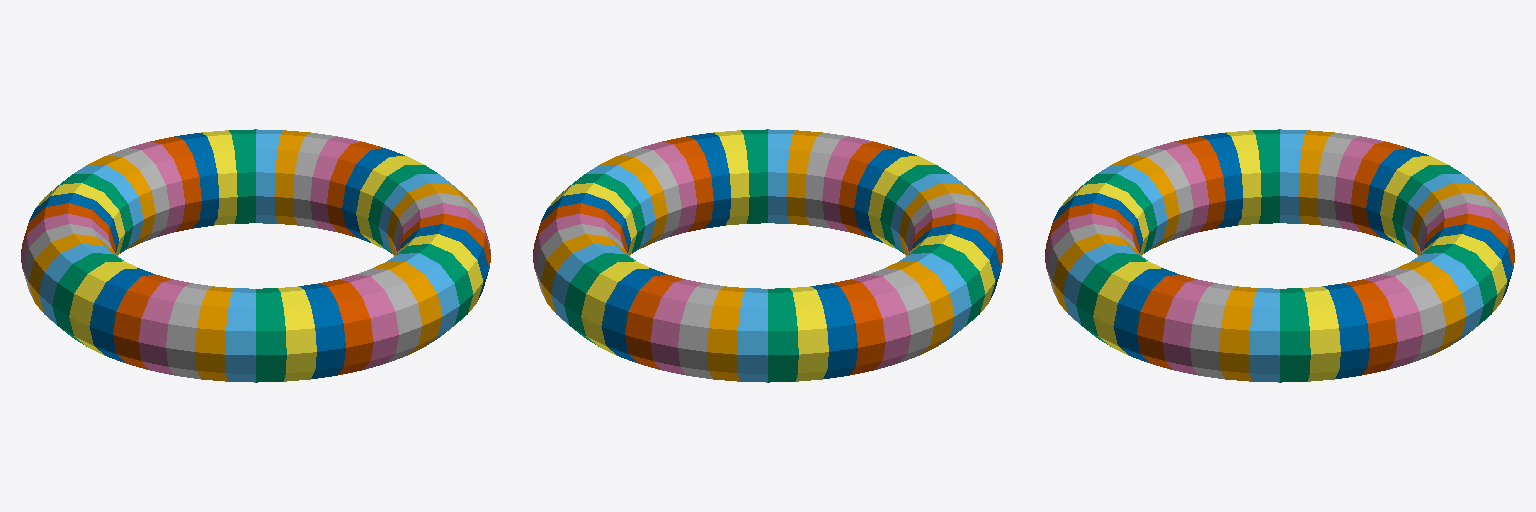
--- What the picture shows (computed from the rendered views, not written in the file) ---
Views: 3 orthographic renders of the robot side by side, from view 1: azimuth 30°, elevation 25°; view 2: azimuth 150°, elevation 25°; view 3: azimuth 270°, elevation 25°.
Robot: ring — 48 links, 47 joints (47 fixed); root link base_link; default pose: every joint at zero.
Visible links, largest first — view 1: 9, 10, 8, 11, 7, 12, 6, 13, 5, 14, 4, 15 (+28 smaller); view 2: 41, 42, 40, 43, 39, 44, 38, 45, 37, 46, 36, 47 (+28 smaller); view 3: 25, 26, 24, 27, 23, 28, 22, 29, 21, 30, 20, 31 (+28 smaller).
Boxes of the visible links, x1,y1,x2,y2 form: 9: [225, 288, 255, 382]; 10: [256, 288, 286, 382]; 8: [195, 286, 233, 381]; 11: [278, 286, 316, 381]; 7: [166, 283, 212, 378]; 12: [299, 283, 345, 378]; 6: [138, 279, 192, 375]; 13: [319, 279, 373, 375]; 5: [113, 274, 172, 369]; 14: [339, 274, 398, 369]; 4: [89, 268, 153, 362]; 15: [358, 268, 422, 362]; 41: [737, 288, 767, 382]; 42: [768, 288, 798, 382]; 40: [707, 286, 745, 381]; 43: [790, 286, 828, 381]; 39: [678, 283, 724, 378]; 44: [811, 283, 857, 378]; 38: [650, 279, 704, 375]; 45: [831, 279, 885, 375]; 37: [625, 274, 684, 369]; 46: [851, 274, 910, 369]; 36: [601, 268, 665, 362]; 47: [870, 268, 934, 362]; 25: [1249, 288, 1279, 382]; 26: [1280, 288, 1310, 382]; 24: [1219, 286, 1257, 381]; 27: [1302, 286, 1340, 381]; 23: [1190, 283, 1236, 378]; 28: [1323, 283, 1369, 378]; 22: [1162, 279, 1216, 375]; 29: [1343, 279, 1397, 375]; 21: [1137, 274, 1196, 369]; 30: [1363, 274, 1422, 369]; 20: [1113, 268, 1177, 362]; 31: [1382, 268, 1446, 362].
Size in the robot's own frame: 0.5 by 0.5 by 0.1 metres.
Meshes: 1 distinct files referenced, 48 mesh visuals loaded (1 OBJ).

The robot description file, URDF, robot "ring":
<?xml version="1.0"?>
<robot name="ring">
  <link name="base_link">
    <visual>
      <origin xyz="0 0 0" rpy="0 0 0.0" />
      <geometry>
        <mesh filename="_ring_48.obj" scale="0.2 0.2 0.2"/>
      </geometry>
    </visual>
    <collision>
      <origin xyz="0 0 0" rpy="0 0 0.0" />
      <geometry>
        <mesh filename="_ring_48.obj" scale="0.2 0.2 0.2"/>
      </geometry>
    </collision>
  </link>

  <link name="1">
    <visual>
      <origin xyz="0 0 0" rpy="0 0 0.1308996938995747" />
      <geometry>
        <mesh filename="_ring_48.obj" scale="0.2 0.2 0.2"/>
      </geometry>
    </visual>
    <collision>
      <origin xyz="0 0 0" rpy="0 0 0.1308996938995747" />
      <geometry>
        <mesh filename="_ring_48.obj" scale="0.2 0.2 0.2"/>
      </geometry>
    </collision>
  </link>

  <joint name="1" type="fixed">
    <parent link="base_link"/>
    <child link="1"/>
    <origin xyz="0 0 0"/>
  </joint>

  <link name="2">
    <visual>
      <origin xyz="0 0 0" rpy="0 0 0.2617993877991494" />
      <geometry>
        <mesh filename="_ring_48.obj" scale="0.2 0.2 0.2"/>
      </geometry>
    </visual>
    <collision>
      <origin xyz="0 0 0" rpy="0 0 0.2617993877991494" />
      <geometry>
        <mesh filename="_ring_48.obj" scale="0.2 0.2 0.2"/>
      </geometry>
    </collision>
  </link>

  <joint name="2" type="fixed">
    <parent link="base_link"/>
    <child link="2"/>
    <origin xyz="0 0 0"/>
  </joint>

  <link name="3">
    <visual>
      <origin xyz="0 0 0" rpy="0 0 0.39269908169872414" />
      <geometry>
        <mesh filename="_ring_48.obj" scale="0.2 0.2 0.2"/>
      </geometry>
    </visual>
    <collision>
      <origin xyz="0 0 0" rpy="0 0 0.39269908169872414" />
      <geometry>
        <mesh filename="_ring_48.obj" scale="0.2 0.2 0.2"/>
      </geometry>
    </collision>
  </link>

  <joint name="3" type="fixed">
    <parent link="base_link"/>
    <child link="3"/>
    <origin xyz="0 0 0"/>
  </joint>

  <link name="4">
    <visual>
      <origin xyz="0 0 0" rpy="0 0 0.5235987755982988" />
      <geometry>
        <mesh filename="_ring_48.obj" scale="0.2 0.2 0.2"/>
      </geometry>
    </visual>
    <collision>
      <origin xyz="0 0 0" rpy="0 0 0.5235987755982988" />
      <geometry>
        <mesh filename="_ring_48.obj" scale="0.2 0.2 0.2"/>
      </geometry>
    </collision>
  </link>

  <joint name="4" type="fixed">
    <parent link="base_link"/>
    <child link="4"/>
    <origin xyz="0 0 0"/>
  </joint>

  <link name="5">
    <visual>
      <origin xyz="0 0 0" rpy="0 0 0.6544984694978735" />
      <geometry>
        <mesh filename="_ring_48.obj" scale="0.2 0.2 0.2"/>
      </geometry>
    </visual>
    <collision>
      <origin xyz="0 0 0" rpy="0 0 0.6544984694978735" />
      <geometry>
        <mesh filename="_ring_48.obj" scale="0.2 0.2 0.2"/>
      </geometry>
    </collision>
  </link>

  <joint name="5" type="fixed">
    <parent link="base_link"/>
    <child link="5"/>
    <origin xyz="0 0 0"/>
  </joint>

  <link name="6">
    <visual>
      <origin xyz="0 0 0" rpy="0 0 0.7853981633974483" />
      <geometry>
        <mesh filename="_ring_48.obj" scale="0.2 0.2 0.2"/>
      </geometry>
    </visual>
    <collision>
      <origin xyz="0 0 0" rpy="0 0 0.7853981633974483" />
      <geometry>
        <mesh filename="_ring_48.obj" scale="0.2 0.2 0.2"/>
      </geometry>
    </collision>
  </link>

  <joint name="6" type="fixed">
    <parent link="base_link"/>
    <child link="6"/>
    <origin xyz="0 0 0"/>
  </joint>

  <link name="7">
    <visual>
      <origin xyz="0 0 0" rpy="0 0 0.916297857297023" />
      <geometry>
        <mesh filename="_ring_48.obj" scale="0.2 0.2 0.2"/>
      </geometry>
    </visual>
    <collision>
      <origin xyz="0 0 0" rpy="0 0 0.916297857297023" />
      <geometry>
        <mesh filename="_ring_48.obj" scale="0.2 0.2 0.2"/>
      </geometry>
    </collision>
  </link>

  <joint name="7" type="fixed">
    <parent link="base_link"/>
    <child link="7"/>
    <origin xyz="0 0 0"/>
  </joint>

  <link name="8">
    <visual>
      <origin xyz="0 0 0" rpy="0 0 1.0471975511965976" />
      <geometry>
        <mesh filename="_ring_48.obj" scale="0.2 0.2 0.2"/>
      </geometry>
    </visual>
    <collision>
      <origin xyz="0 0 0" rpy="0 0 1.0471975511965976" />
      <geometry>
        <mesh filename="_ring_48.obj" scale="0.2 0.2 0.2"/>
      </geometry>
    </collision>
  </link>

  <joint name="8" type="fixed">
    <parent link="base_link"/>
    <child link="8"/>
    <origin xyz="0 0 0"/>
  </joint>

  <link name="9">
    <visual>
      <origin xyz="0 0 0" rpy="0 0 1.1780972450961724" />
      <geometry>
        <mesh filename="_ring_48.obj" scale="0.2 0.2 0.2"/>
      </geometry>
    </visual>
    <collision>
      <origin xyz="0 0 0" rpy="0 0 1.1780972450961724" />
      <geometry>
        <mesh filename="_ring_48.obj" scale="0.2 0.2 0.2"/>
      </geometry>
    </collision>
  </link>

  <joint name="9" type="fixed">
    <parent link="base_link"/>
    <child link="9"/>
    <origin xyz="0 0 0"/>
  </joint>

  <link name="10">
    <visual>
      <origin xyz="0 0 0" rpy="0 0 1.308996938995747" />
      <geometry>
        <mesh filename="_ring_48.obj" scale="0.2 0.2 0.2"/>
      </geometry>
    </visual>
    <collision>
      <origin xyz="0 0 0" rpy="0 0 1.308996938995747" />
      <geometry>
        <mesh filename="_ring_48.obj" scale="0.2 0.2 0.2"/>
      </geometry>
    </collision>
  </link>

  <joint name="10" type="fixed">
    <parent link="base_link"/>
    <child link="10"/>
    <origin xyz="0 0 0"/>
  </joint>

  <link name="11">
    <visual>
      <origin xyz="0 0 0" rpy="0 0 1.4398966328953218" />
      <geometry>
        <mesh filename="_ring_48.obj" scale="0.2 0.2 0.2"/>
      </geometry>
    </visual>
    <collision>
      <origin xyz="0 0 0" rpy="0 0 1.4398966328953218" />
      <geometry>
        <mesh filename="_ring_48.obj" scale="0.2 0.2 0.2"/>
      </geometry>
    </collision>
  </link>

  <joint name="11" type="fixed">
    <parent link="base_link"/>
    <child link="11"/>
    <origin xyz="0 0 0"/>
  </joint>

  <link name="12">
    <visual>
      <origin xyz="0 0 0" rpy="0 0 1.5707963267948966" />
      <geometry>
        <mesh filename="_ring_48.obj" scale="0.2 0.2 0.2"/>
      </geometry>
    </visual>
    <collision>
      <origin xyz="0 0 0" rpy="0 0 1.5707963267948966" />
      <geometry>
        <mesh filename="_ring_48.obj" scale="0.2 0.2 0.2"/>
      </geometry>
    </collision>
  </link>

  <joint name="12" type="fixed">
    <parent link="base_link"/>
    <child link="12"/>
    <origin xyz="0 0 0"/>
  </joint>

  <link name="13">
    <visual>
      <origin xyz="0 0 0" rpy="0 0 1.7016960206944711" />
      <geometry>
        <mesh filename="_ring_48.obj" scale="0.2 0.2 0.2"/>
      </geometry>
    </visual>
    <collision>
      <origin xyz="0 0 0" rpy="0 0 1.7016960206944711" />
      <geometry>
        <mesh filename="_ring_48.obj" scale="0.2 0.2 0.2"/>
      </geometry>
    </collision>
  </link>

  <joint name="13" type="fixed">
    <parent link="base_link"/>
    <child link="13"/>
    <origin xyz="0 0 0"/>
  </joint>

  <link name="14">
    <visual>
      <origin xyz="0 0 0" rpy="0 0 1.832595714594046" />
      <geometry>
        <mesh filename="_ring_48.obj" scale="0.2 0.2 0.2"/>
      </geometry>
    </visual>
    <collision>
      <origin xyz="0 0 0" rpy="0 0 1.832595714594046" />
      <geometry>
        <mesh filename="_ring_48.obj" scale="0.2 0.2 0.2"/>
      </geometry>
    </collision>
  </link>

  <joint name="14" type="fixed">
    <parent link="base_link"/>
    <child link="14"/>
    <origin xyz="0 0 0"/>
  </joint>

  <link name="15">
    <visual>
      <origin xyz="0 0 0" rpy="0 0 1.9634954084936205" />
      <geometry>
        <mesh filename="_ring_48.obj" scale="0.2 0.2 0.2"/>
      </geometry>
    </visual>
    <collision>
      <origin xyz="0 0 0" rpy="0 0 1.9634954084936205" />
      <geometry>
        <mesh filename="_ring_48.obj" scale="0.2 0.2 0.2"/>
      </geometry>
    </collision>
  </link>

  <joint name="15" type="fixed">
    <parent link="base_link"/>
    <child link="15"/>
    <origin xyz="0 0 0"/>
  </joint>

  <link name="16">
    <visual>
      <origin xyz="0 0 0" rpy="0 0 2.0943951023931953" />
      <geometry>
        <mesh filename="_ring_48.obj" scale="0.2 0.2 0.2"/>
      </geometry>
    </visual>
    <collision>
      <origin xyz="0 0 0" rpy="0 0 2.0943951023931953" />
      <geometry>
        <mesh filename="_ring_48.obj" scale="0.2 0.2 0.2"/>
      </geometry>
    </collision>
  </link>

  <joint name="16" type="fixed">
    <parent link="base_link"/>
    <child link="16"/>
    <origin xyz="0 0 0"/>
  </joint>

  <link name="17">
    <visual>
      <origin xyz="0 0 0" rpy="0 0 2.22529479629277" />
      <geometry>
        <mesh filename="_ring_48.obj" scale="0.2 0.2 0.2"/>
      </geometry>
    </visual>
    <collision>
      <origin xyz="0 0 0" rpy="0 0 2.22529479629277" />
      <geometry>
        <mesh filename="_ring_48.obj" scale="0.2 0.2 0.2"/>
      </geometry>
    </collision>
  </link>

  <joint name="17" type="fixed">
    <parent link="base_link"/>
    <child link="17"/>
    <origin xyz="0 0 0"/>
  </joint>

  <link name="18">
    <visual>
      <origin xyz="0 0 0" rpy="0 0 2.356194490192345" />
      <geometry>
        <mesh filename="_ring_48.obj" scale="0.2 0.2 0.2"/>
      </geometry>
    </visual>
    <collision>
      <origin xyz="0 0 0" rpy="0 0 2.356194490192345" />
      <geometry>
        <mesh filename="_ring_48.obj" scale="0.2 0.2 0.2"/>
      </geometry>
    </collision>
  </link>

  <joint name="18" type="fixed">
    <parent link="base_link"/>
    <child link="18"/>
    <origin xyz="0 0 0"/>
  </joint>

  <link name="19">
    <visual>
      <origin xyz="0 0 0" rpy="0 0 2.4870941840919194" />
      <geometry>
        <mesh filename="_ring_48.obj" scale="0.2 0.2 0.2"/>
      </geometry>
    </visual>
    <collision>
      <origin xyz="0 0 0" rpy="0 0 2.4870941840919194" />
      <geometry>
        <mesh filename="_ring_48.obj" scale="0.2 0.2 0.2"/>
      </geometry>
    </collision>
  </link>

  <joint name="19" type="fixed">
    <parent link="base_link"/>
    <child link="19"/>
    <origin xyz="0 0 0"/>
  </joint>

  <link name="20">
    <visual>
      <origin xyz="0 0 0" rpy="0 0 2.617993877991494" />
      <geometry>
        <mesh filename="_ring_48.obj" scale="0.2 0.2 0.2"/>
      </geometry>
    </visual>
    <collision>
      <origin xyz="0 0 0" rpy="0 0 2.617993877991494" />
      <geometry>
        <mesh filename="_ring_48.obj" scale="0.2 0.2 0.2"/>
      </geometry>
    </collision>
  </link>

  <joint name="20" type="fixed">
    <parent link="base_link"/>
    <child link="20"/>
    <origin xyz="0 0 0"/>
  </joint>

  <link name="21">
    <visual>
      <origin xyz="0 0 0" rpy="0 0 2.748893571891069" />
      <geometry>
        <mesh filename="_ring_48.obj" scale="0.2 0.2 0.2"/>
      </geometry>
    </visual>
    <collision>
      <origin xyz="0 0 0" rpy="0 0 2.748893571891069" />
      <geometry>
        <mesh filename="_ring_48.obj" scale="0.2 0.2 0.2"/>
      </geometry>
    </collision>
  </link>

  <joint name="21" type="fixed">
    <parent link="base_link"/>
    <child link="21"/>
    <origin xyz="0 0 0"/>
  </joint>

  <link name="22">
    <visual>
      <origin xyz="0 0 0" rpy="0 0 2.8797932657906435" />
      <geometry>
        <mesh filename="_ring_48.obj" scale="0.2 0.2 0.2"/>
      </geometry>
    </visual>
    <collision>
      <origin xyz="0 0 0" rpy="0 0 2.8797932657906435" />
      <geometry>
        <mesh filename="_ring_48.obj" scale="0.2 0.2 0.2"/>
      </geometry>
    </collision>
  </link>

  <joint name="22" type="fixed">
    <parent link="base_link"/>
    <child link="22"/>
    <origin xyz="0 0 0"/>
  </joint>

  <link name="23">
    <visual>
      <origin xyz="0 0 0" rpy="0 0 3.010692959690218" />
      <geometry>
        <mesh filename="_ring_48.obj" scale="0.2 0.2 0.2"/>
      </geometry>
    </visual>
    <collision>
      <origin xyz="0 0 0" rpy="0 0 3.010692959690218" />
      <geometry>
        <mesh filename="_ring_48.obj" scale="0.2 0.2 0.2"/>
      </geometry>
    </collision>
  </link>

  <joint name="23" type="fixed">
    <parent link="base_link"/>
    <child link="23"/>
    <origin xyz="0 0 0"/>
  </joint>

  <link name="24">
    <visual>
      <origin xyz="0 0 0" rpy="0 0 3.141592653589793" />
      <geometry>
        <mesh filename="_ring_48.obj" scale="0.2 0.2 0.2"/>
      </geometry>
    </visual>
    <collision>
      <origin xyz="0 0 0" rpy="0 0 3.141592653589793" />
      <geometry>
        <mesh filename="_ring_48.obj" scale="0.2 0.2 0.2"/>
      </geometry>
    </collision>
  </link>

  <joint name="24" type="fixed">
    <parent link="base_link"/>
    <child link="24"/>
    <origin xyz="0 0 0"/>
  </joint>

  <link name="25">
    <visual>
      <origin xyz="0 0 0" rpy="0 0 3.2724923474893677" />
      <geometry>
        <mesh filename="_ring_48.obj" scale="0.2 0.2 0.2"/>
      </geometry>
    </visual>
    <collision>
      <origin xyz="0 0 0" rpy="0 0 3.2724923474893677" />
      <geometry>
        <mesh filename="_ring_48.obj" scale="0.2 0.2 0.2"/>
      </geometry>
    </collision>
  </link>

  <joint name="25" type="fixed">
    <parent link="base_link"/>
    <child link="25"/>
    <origin xyz="0 0 0"/>
  </joint>

  <link name="26">
    <visual>
      <origin xyz="0 0 0" rpy="0 0 3.4033920413889422" />
      <geometry>
        <mesh filename="_ring_48.obj" scale="0.2 0.2 0.2"/>
      </geometry>
    </visual>
    <collision>
      <origin xyz="0 0 0" rpy="0 0 3.4033920413889422" />
      <geometry>
        <mesh filename="_ring_48.obj" scale="0.2 0.2 0.2"/>
      </geometry>
    </collision>
  </link>

  <joint name="26" type="fixed">
    <parent link="base_link"/>
    <child link="26"/>
    <origin xyz="0 0 0"/>
  </joint>

  <link name="27">
    <visual>
      <origin xyz="0 0 0" rpy="0 0 3.534291735288517" />
      <geometry>
        <mesh filename="_ring_48.obj" scale="0.2 0.2 0.2"/>
      </geometry>
    </visual>
    <collision>
      <origin xyz="0 0 0" rpy="0 0 3.534291735288517" />
      <geometry>
        <mesh filename="_ring_48.obj" scale="0.2 0.2 0.2"/>
      </geometry>
    </collision>
  </link>

  <joint name="27" type="fixed">
    <parent link="base_link"/>
    <child link="27"/>
    <origin xyz="0 0 0"/>
  </joint>

  <link name="28">
    <visual>
      <origin xyz="0 0 0" rpy="0 0 3.665191429188092" />
      <geometry>
        <mesh filename="_ring_48.obj" scale="0.2 0.2 0.2"/>
      </geometry>
    </visual>
    <collision>
      <origin xyz="0 0 0" rpy="0 0 3.665191429188092" />
      <geometry>
        <mesh filename="_ring_48.obj" scale="0.2 0.2 0.2"/>
      </geometry>
    </collision>
  </link>

  <joint name="28" type="fixed">
    <parent link="base_link"/>
    <child link="28"/>
    <origin xyz="0 0 0"/>
  </joint>

  <link name="29">
    <visual>
      <origin xyz="0 0 0" rpy="0 0 3.7960911230876664" />
      <geometry>
        <mesh filename="_ring_48.obj" scale="0.2 0.2 0.2"/>
      </geometry>
    </visual>
    <collision>
      <origin xyz="0 0 0" rpy="0 0 3.7960911230876664" />
      <geometry>
        <mesh filename="_ring_48.obj" scale="0.2 0.2 0.2"/>
      </geometry>
    </collision>
  </link>

  <joint name="29" type="fixed">
    <parent link="base_link"/>
    <child link="29"/>
    <origin xyz="0 0 0"/>
  </joint>

  <link name="30">
    <visual>
      <origin xyz="0 0 0" rpy="0 0 3.926990816987241" />
      <geometry>
        <mesh filename="_ring_48.obj" scale="0.2 0.2 0.2"/>
      </geometry>
    </visual>
    <collision>
      <origin xyz="0 0 0" rpy="0 0 3.926990816987241" />
      <geometry>
        <mesh filename="_ring_48.obj" scale="0.2 0.2 0.2"/>
      </geometry>
    </collision>
  </link>

  <joint name="30" type="fixed">
    <parent link="base_link"/>
    <child link="30"/>
    <origin xyz="0 0 0"/>
  </joint>

  <link name="31">
    <visual>
      <origin xyz="0 0 0" rpy="0 0 4.057890510886816" />
      <geometry>
        <mesh filename="_ring_48.obj" scale="0.2 0.2 0.2"/>
      </geometry>
    </visual>
    <collision>
      <origin xyz="0 0 0" rpy="0 0 4.057890510886816" />
      <geometry>
        <mesh filename="_ring_48.obj" scale="0.2 0.2 0.2"/>
      </geometry>
    </collision>
  </link>

  <joint name="31" type="fixed">
    <parent link="base_link"/>
    <child link="31"/>
    <origin xyz="0 0 0"/>
  </joint>

  <link name="32">
    <visual>
      <origin xyz="0 0 0" rpy="0 0 4.1887902047863905" />
      <geometry>
        <mesh filename="_ring_48.obj" scale="0.2 0.2 0.2"/>
      </geometry>
    </visual>
    <collision>
      <origin xyz="0 0 0" rpy="0 0 4.1887902047863905" />
      <geometry>
        <mesh filename="_ring_48.obj" scale="0.2 0.2 0.2"/>
      </geometry>
    </collision>
  </link>

  <joint name="32" type="fixed">
    <parent link="base_link"/>
    <child link="32"/>
    <origin xyz="0 0 0"/>
  </joint>

  <link name="33">
    <visual>
      <origin xyz="0 0 0" rpy="0 0 4.319689898685965" />
      <geometry>
        <mesh filename="_ring_48.obj" scale="0.2 0.2 0.2"/>
      </geometry>
    </visual>
    <collision>
      <origin xyz="0 0 0" rpy="0 0 4.319689898685965" />
      <geometry>
        <mesh filename="_ring_48.obj" scale="0.2 0.2 0.2"/>
      </geometry>
    </collision>
  </link>

  <joint name="33" type="fixed">
    <parent link="base_link"/>
    <child link="33"/>
    <origin xyz="0 0 0"/>
  </joint>

  <link name="34">
    <visual>
      <origin xyz="0 0 0" rpy="0 0 4.45058959258554" />
      <geometry>
        <mesh filename="_ring_48.obj" scale="0.2 0.2 0.2"/>
      </geometry>
    </visual>
    <collision>
      <origin xyz="0 0 0" rpy="0 0 4.45058959258554" />
      <geometry>
        <mesh filename="_ring_48.obj" scale="0.2 0.2 0.2"/>
      </geometry>
    </collision>
  </link>

  <joint name="34" type="fixed">
    <parent link="base_link"/>
    <child link="34"/>
    <origin xyz="0 0 0"/>
  </joint>

  <link name="35">
    <visual>
      <origin xyz="0 0 0" rpy="0 0 4.581489286485114" />
      <geometry>
        <mesh filename="_ring_48.obj" scale="0.2 0.2 0.2"/>
      </geometry>
    </visual>
    <collision>
      <origin xyz="0 0 0" rpy="0 0 4.581489286485114" />
      <geometry>
        <mesh filename="_ring_48.obj" scale="0.2 0.2 0.2"/>
      </geometry>
    </collision>
  </link>

  <joint name="35" type="fixed">
    <parent link="base_link"/>
    <child link="35"/>
    <origin xyz="0 0 0"/>
  </joint>

  <link name="36">
    <visual>
      <origin xyz="0 0 0" rpy="0 0 4.71238898038469" />
      <geometry>
        <mesh filename="_ring_48.obj" scale="0.2 0.2 0.2"/>
      </geometry>
    </visual>
    <collision>
      <origin xyz="0 0 0" rpy="0 0 4.71238898038469" />
      <geometry>
        <mesh filename="_ring_48.obj" scale="0.2 0.2 0.2"/>
      </geometry>
    </collision>
  </link>

  <joint name="36" type="fixed">
    <parent link="base_link"/>
    <child link="36"/>
    <origin xyz="0 0 0"/>
  </joint>

  <link name="37">
    <visual>
      <origin xyz="0 0 0" rpy="0 0 4.843288674284264" />
      <geometry>
        <mesh filename="_ring_48.obj" scale="0.2 0.2 0.2"/>
      </geometry>
    </visual>
    <collision>
      <origin xyz="0 0 0" rpy="0 0 4.843288674284264" />
      <geometry>
        <mesh filename="_ring_48.obj" scale="0.2 0.2 0.2"/>
      </geometry>
    </collision>
  </link>

  <joint name="37" type="fixed">
    <parent link="base_link"/>
    <child link="37"/>
    <origin xyz="0 0 0"/>
  </joint>

  <link name="38">
    <visual>
      <origin xyz="0 0 0" rpy="0 0 4.974188368183839" />
      <geometry>
        <mesh filename="_ring_48.obj" scale="0.2 0.2 0.2"/>
      </geometry>
    </visual>
    <collision>
      <origin xyz="0 0 0" rpy="0 0 4.974188368183839" />
      <geometry>
        <mesh filename="_ring_48.obj" scale="0.2 0.2 0.2"/>
      </geometry>
    </collision>
  </link>

  <joint name="38" type="fixed">
    <parent link="base_link"/>
    <child link="38"/>
    <origin xyz="0 0 0"/>
  </joint>

  <link name="39">
    <visual>
      <origin xyz="0 0 0" rpy="0 0 5.105088062083413" />
      <geometry>
        <mesh filename="_ring_48.obj" scale="0.2 0.2 0.2"/>
      </geometry>
    </visual>
    <collision>
      <origin xyz="0 0 0" rpy="0 0 5.105088062083413" />
      <geometry>
        <mesh filename="_ring_48.obj" scale="0.2 0.2 0.2"/>
      </geometry>
    </collision>
  </link>

  <joint name="39" type="fixed">
    <parent link="base_link"/>
    <child link="39"/>
    <origin xyz="0 0 0"/>
  </joint>

  <link name="40">
    <visual>
      <origin xyz="0 0 0" rpy="0 0 5.235987755982988" />
      <geometry>
        <mesh filename="_ring_48.obj" scale="0.2 0.2 0.2"/>
      </geometry>
    </visual>
    <collision>
      <origin xyz="0 0 0" rpy="0 0 5.235987755982988" />
      <geometry>
        <mesh filename="_ring_48.obj" scale="0.2 0.2 0.2"/>
      </geometry>
    </collision>
  </link>

  <joint name="40" type="fixed">
    <parent link="base_link"/>
    <child link="40"/>
    <origin xyz="0 0 0"/>
  </joint>

  <link name="41">
    <visual>
      <origin xyz="0 0 0" rpy="0 0 5.3668874498825625" />
      <geometry>
        <mesh filename="_ring_48.obj" scale="0.2 0.2 0.2"/>
      </geometry>
    </visual>
    <collision>
      <origin xyz="0 0 0" rpy="0 0 5.3668874498825625" />
      <geometry>
        <mesh filename="_ring_48.obj" scale="0.2 0.2 0.2"/>
      </geometry>
    </collision>
  </link>

  <joint name="41" type="fixed">
    <parent link="base_link"/>
    <child link="41"/>
    <origin xyz="0 0 0"/>
  </joint>

  <link name="42">
    <visual>
      <origin xyz="0 0 0" rpy="0 0 5.497787143782138" />
      <geometry>
        <mesh filename="_ring_48.obj" scale="0.2 0.2 0.2"/>
      </geometry>
    </visual>
    <collision>
      <origin xyz="0 0 0" rpy="0 0 5.497787143782138" />
      <geometry>
        <mesh filename="_ring_48.obj" scale="0.2 0.2 0.2"/>
      </geometry>
    </collision>
  </link>

  <joint name="42" type="fixed">
    <parent link="base_link"/>
    <child link="42"/>
    <origin xyz="0 0 0"/>
  </joint>

  <link name="43">
    <visual>
      <origin xyz="0 0 0" rpy="0 0 5.6286868376817125" />
      <geometry>
        <mesh filename="_ring_48.obj" scale="0.2 0.2 0.2"/>
      </geometry>
    </visual>
    <collision>
      <origin xyz="0 0 0" rpy="0 0 5.6286868376817125" />
      <geometry>
        <mesh filename="_ring_48.obj" scale="0.2 0.2 0.2"/>
      </geometry>
    </collision>
  </link>

  <joint name="43" type="fixed">
    <parent link="base_link"/>
    <child link="43"/>
    <origin xyz="0 0 0"/>
  </joint>

  <link name="44">
    <visual>
      <origin xyz="0 0 0" rpy="0 0 5.759586531581287" />
      <geometry>
        <mesh filename="_ring_48.obj" scale="0.2 0.2 0.2"/>
      </geometry>
    </visual>
    <collision>
      <origin xyz="0 0 0" rpy="0 0 5.759586531581287" />
      <geometry>
        <mesh filename="_ring_48.obj" scale="0.2 0.2 0.2"/>
      </geometry>
    </collision>
  </link>

  <joint name="44" type="fixed">
    <parent link="base_link"/>
    <child link="44"/>
    <origin xyz="0 0 0"/>
  </joint>

  <link name="45">
    <visual>
      <origin xyz="0 0 0" rpy="0 0 5.890486225480862" />
      <geometry>
        <mesh filename="_ring_48.obj" scale="0.2 0.2 0.2"/>
      </geometry>
    </visual>
    <collision>
      <origin xyz="0 0 0" rpy="0 0 5.890486225480862" />
      <geometry>
        <mesh filename="_ring_48.obj" scale="0.2 0.2 0.2"/>
      </geometry>
    </collision>
  </link>

  <joint name="45" type="fixed">
    <parent link="base_link"/>
    <child link="45"/>
    <origin xyz="0 0 0"/>
  </joint>

  <link name="46">
    <visual>
      <origin xyz="0 0 0" rpy="0 0 6.021385919380436" />
      <geometry>
        <mesh filename="_ring_48.obj" scale="0.2 0.2 0.2"/>
      </geometry>
    </visual>
    <collision>
      <origin xyz="0 0 0" rpy="0 0 6.021385919380436" />
      <geometry>
        <mesh filename="_ring_48.obj" scale="0.2 0.2 0.2"/>
      </geometry>
    </collision>
  </link>

  <joint name="46" type="fixed">
    <parent link="base_link"/>
    <child link="46"/>
    <origin xyz="0 0 0"/>
  </joint>

  <link name="47">
    <visual>
      <origin xyz="0 0 0" rpy="0 0 6.152285613280011" />
      <geometry>
        <mesh filename="_ring_48.obj" scale="0.2 0.2 0.2"/>
      </geometry>
    </visual>
    <collision>
      <origin xyz="0 0 0" rpy="0 0 6.152285613280011" />
      <geometry>
        <mesh filename="_ring_48.obj" scale="0.2 0.2 0.2"/>
      </geometry>
    </collision>
  </link>

  <joint name="47" type="fixed">
    <parent link="base_link"/>
    <child link="47"/>
    <origin xyz="0 0 0"/>
  </joint>

</robot>
